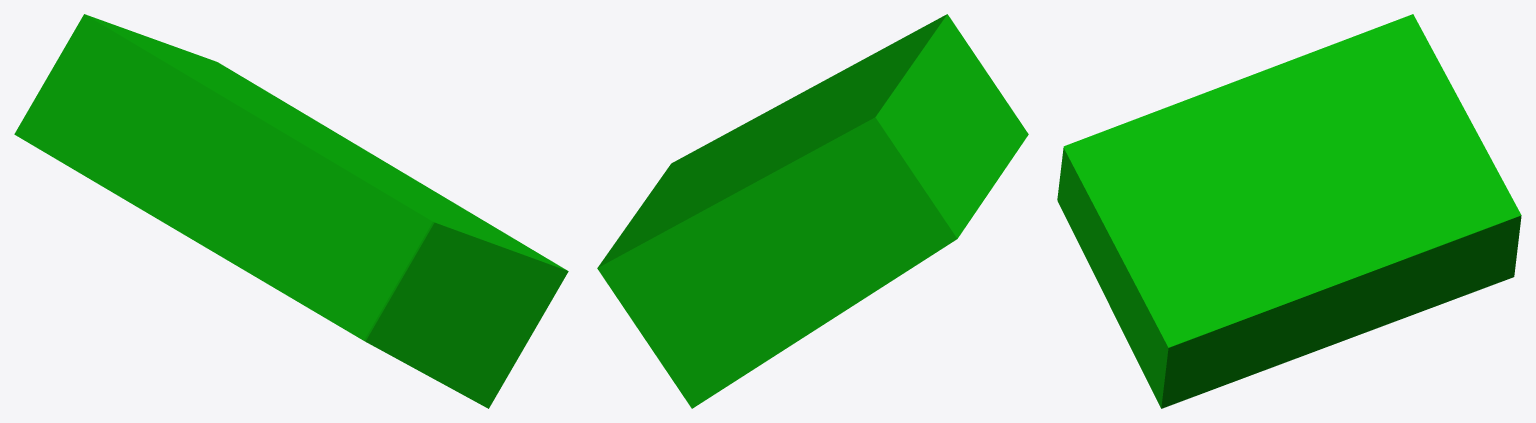
3 renders of one model, left to right at view 1: azimuth 30°, elevation 25°; view 2: azimuth 150°, elevation 25°; view 3: azimuth 270°, elevation 25°, orthographic. The views are drawn at different scales.
Parts seen in each view (by area): view 1: mesh; view 2: mesh; view 3: mesh.
Boxes of the visible parts, box(x1,y1,x2,y2) form: mesh: box(14, 14, 568, 408); mesh: box(597, 14, 1028, 408); mesh: box(1057, 14, 1521, 408).
Bounding box in the file's own units: 12.41 × 9.98 × 14.44.
